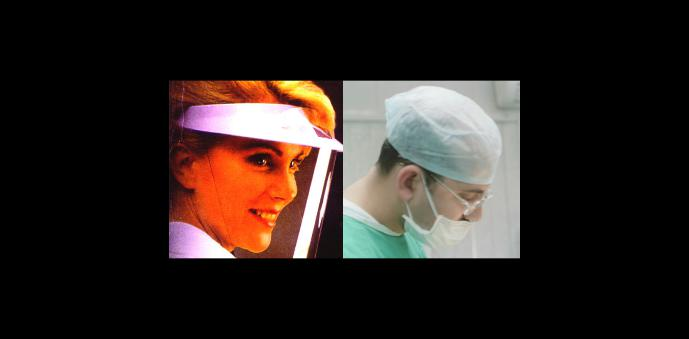mask_weared_incorrect: (421, 175, 495, 248)
without_mask: (223, 141, 309, 253)
